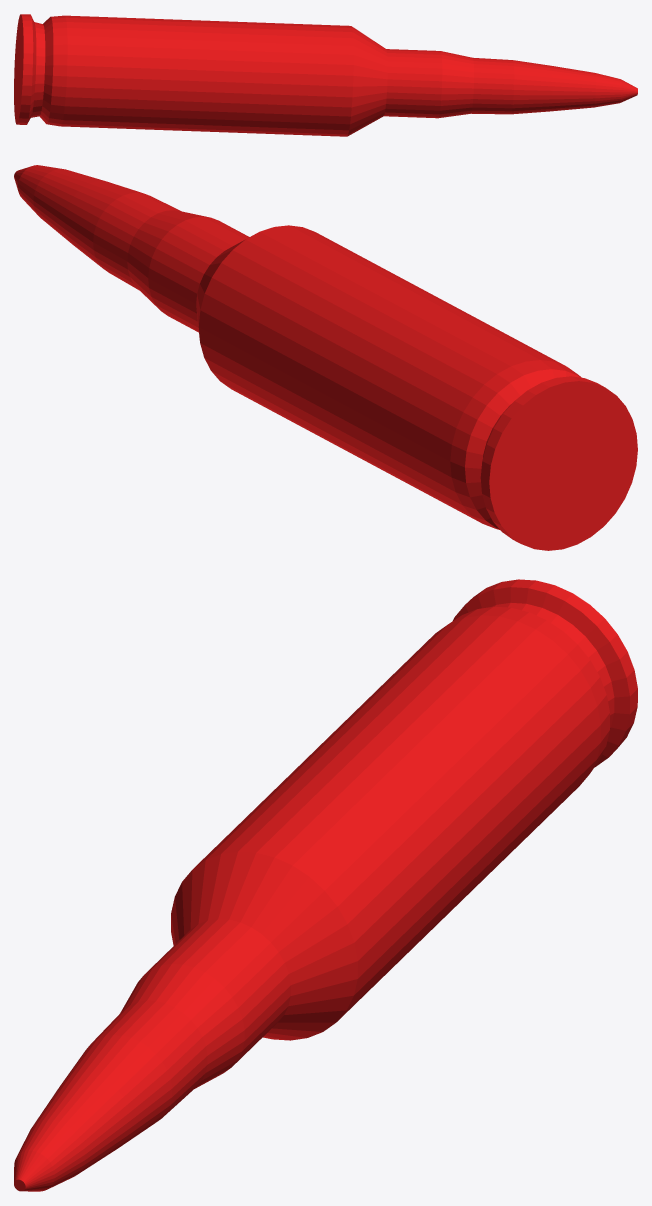
File: bala 2.2.fbx
3 views of the same model, one above another, from view 1: azimuth 30°, elevation 25°; view 2: azimuth 150°, elevation 25°; view 3: azimuth 270°, elevation 25° (orthographic). The views are drawn at different scales.
Visible parts, largest first — view 1: Cylinder.001; view 2: Cylinder.001; view 3: Cylinder.001.
Boxes of the visible parts, x1=… form: Cylinder.001: x1=14, y1=14, x2=637, y2=136; Cylinder.001: x1=14, y1=165, x2=637, y2=550; Cylinder.001: x1=14, y1=579, x2=637, y2=1191.
Size of the model in its own units: 123 by 28 by 69.85.
